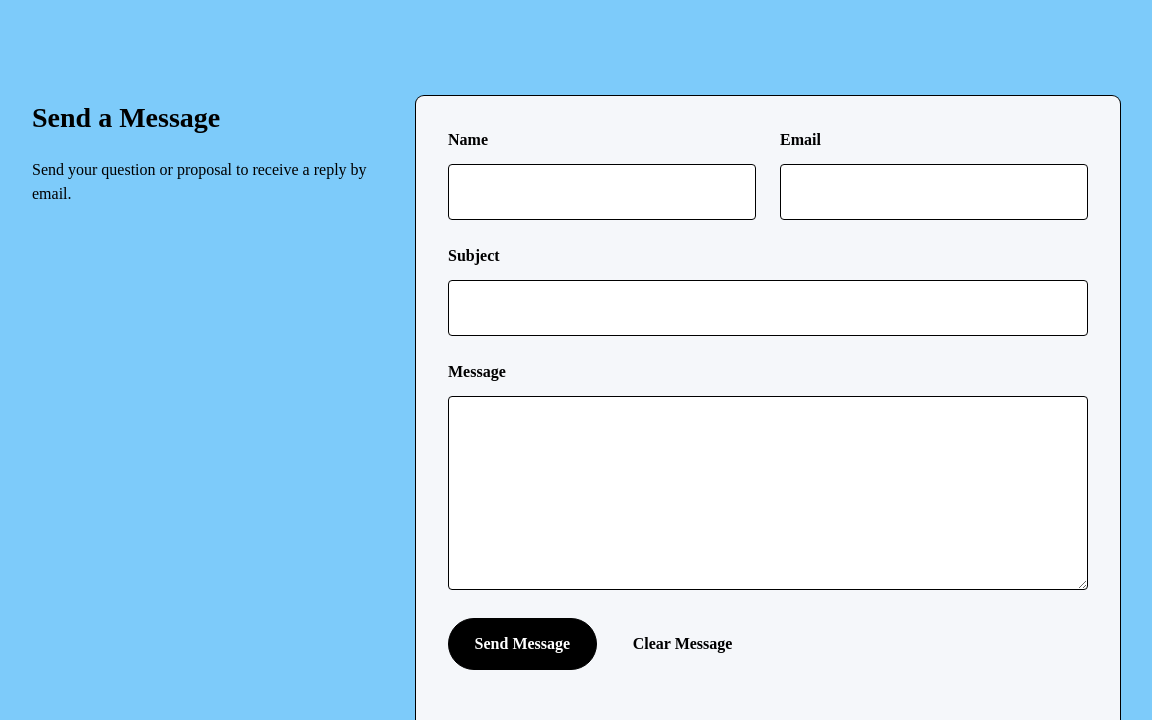
Test: submits the real form through its API client and clears fields after success
Type "Reader" into the field labelled "Name" at (602, 192), box [448,164,756,220]
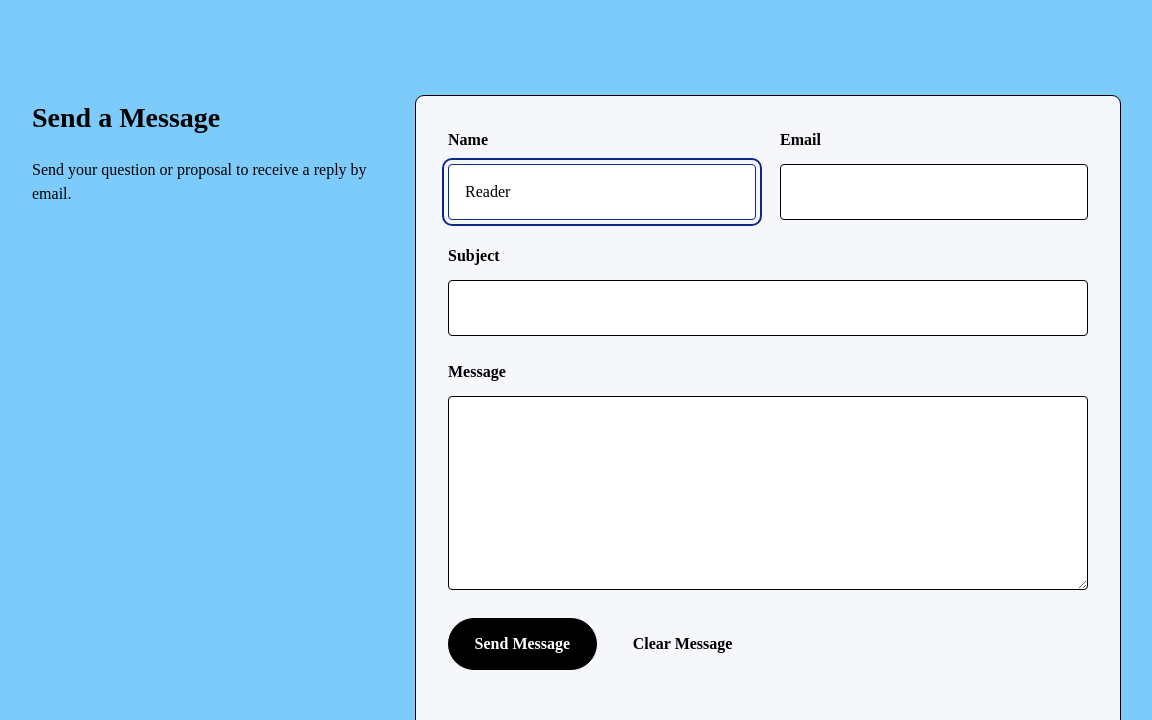
Type "reader@example.com" into the field labelled "Email" at (934, 192), box [780,164,1088,220]
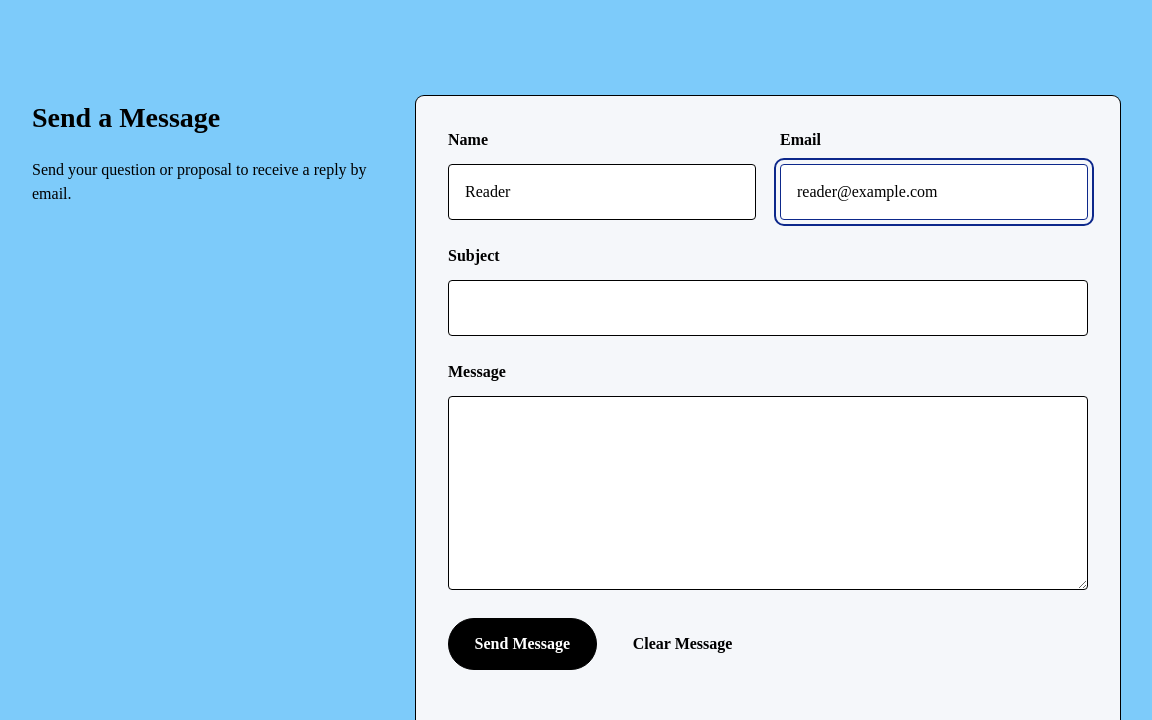
Type "Portfolio question" into the field labelled "Subject" at (768, 308), box [448,280,1088,336]
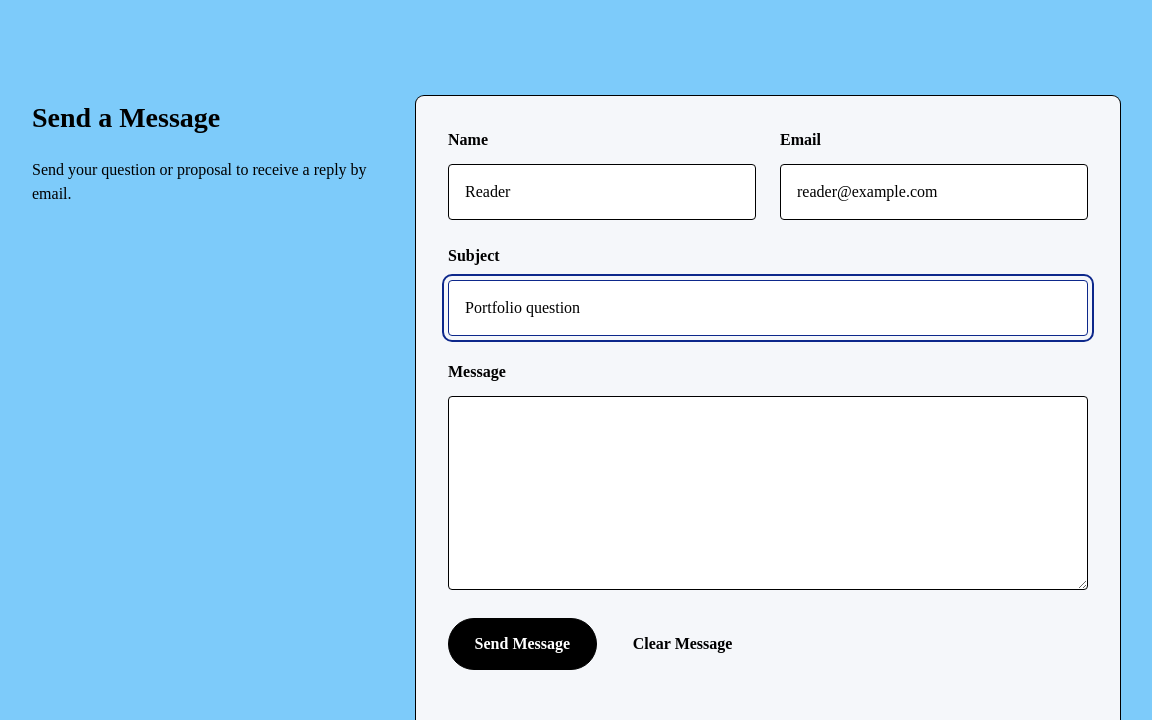
Type "Please explain the portfolio returns." into the text box labelled "Message" at (768, 493), box [448,396,1088,590]
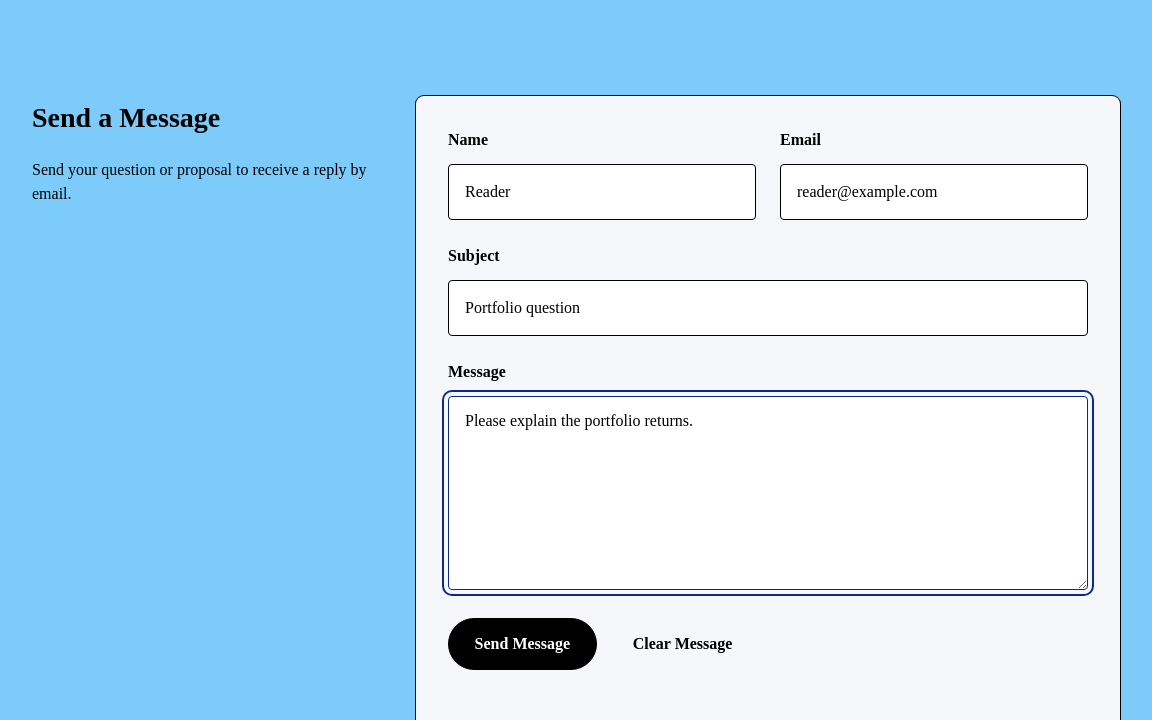
Click the button "Send Message" at (522, 644), box [448,618,597,670]
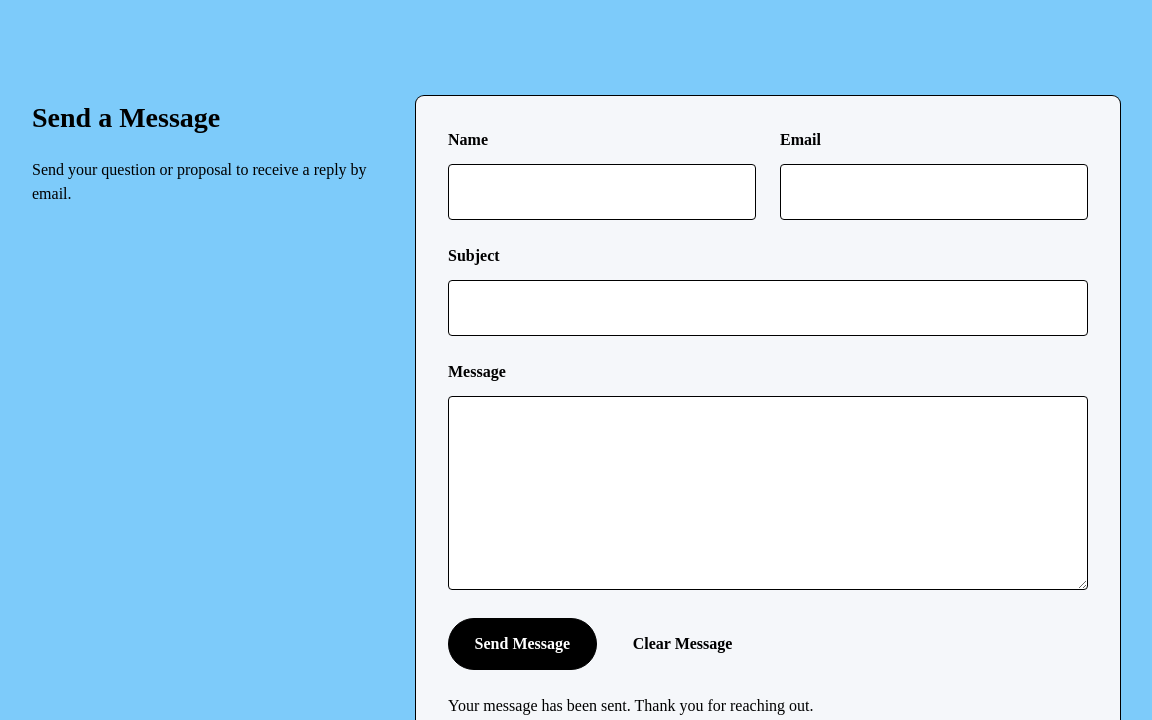
Now the text "Your message has been sent. Thank you for reaching out." is shown, box [448,694,868,719]
Now the text box labelled "Message" is empty, box [448,396,1088,590]
